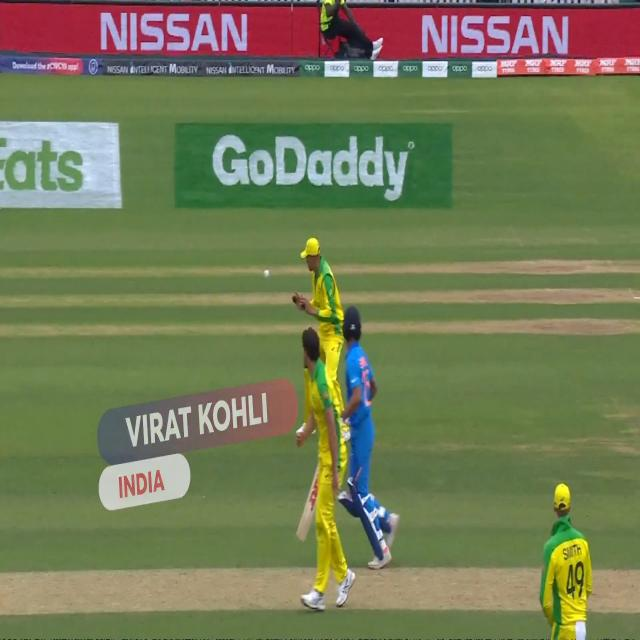ball: (263, 264, 275, 282)
